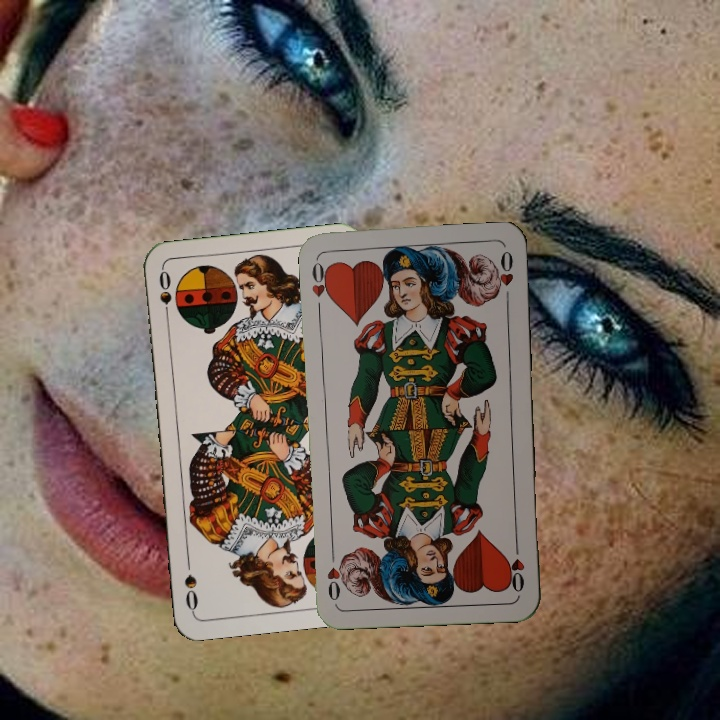HO: (504, 536, 528, 595), (307, 255, 334, 303)
SO: (155, 266, 174, 326)
